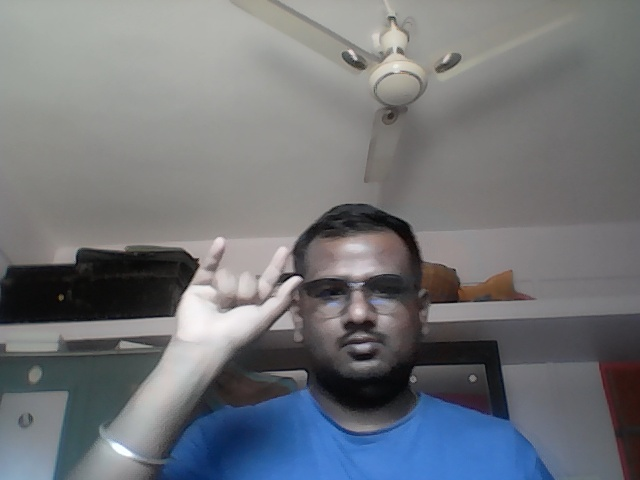I Love You: (171, 235, 305, 352)
